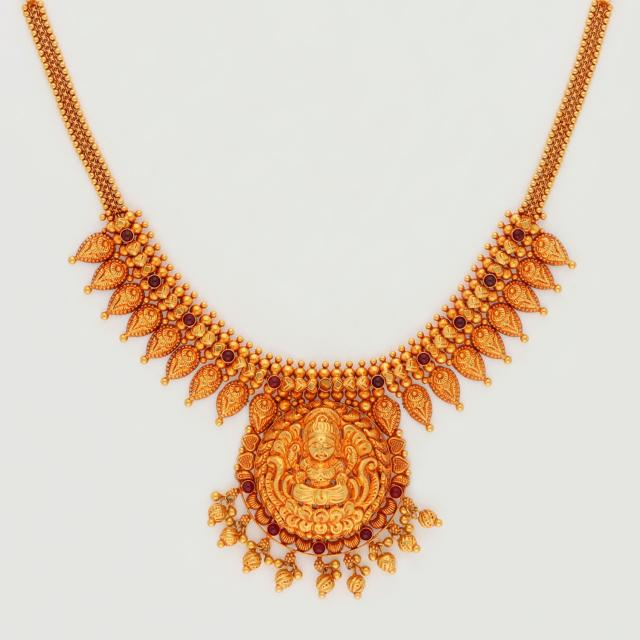missing gem: (320, 379, 331, 390)
